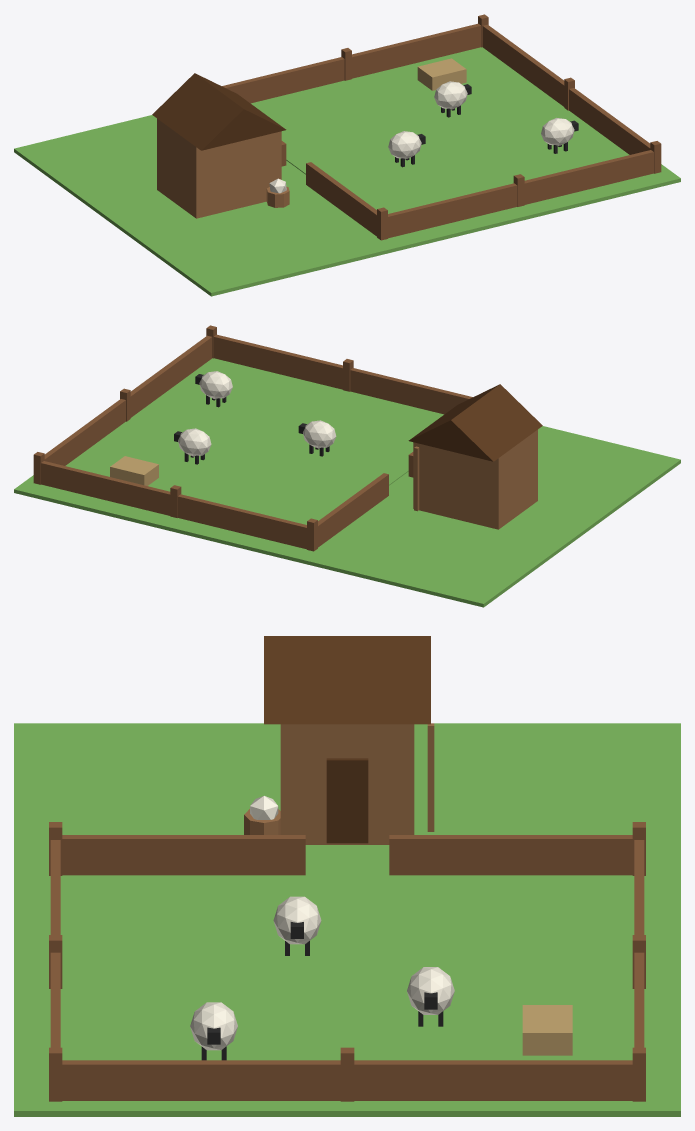
The model's file is sheep_farm.glb.
3 renders of one model, top to bottom at view 1: azimuth 30°, elevation 25°; view 2: azimuth 150°, elevation 25°; view 3: azimuth 270°, elevation 25°, orthographic. The views are drawn at different scales.
Visible parts, largest first — view 1: Ground, Paddock, Hut, Fence_F, Fence_B, HutRoof, Fence_R, Fence_L1, HayPile, Sheep1_Body, Sheep2_Body, Sheep0_Body; view 2: Ground, Paddock, Hut, Fence_B, Fence_F, HutRoof, Fence_R, Fence_L2, HayPile, Sheep0_Body, Sheep2_Body, Sheep1_Body; view 3: Paddock, Ground, Fence_R, HutRoof, Hut, Fence_L1, Fence_L2, HutDoor, HayPile, Fence_F, Fence_B, Sheep2_Body (+6 smaller).
Boxes of the visible parts, left/top/right/bottom form: Ground: left=14, top=47, right=680, bottom=296; Paddock: left=251, top=48, right=623, bottom=213; Hut: left=157, top=118, right=281, bottom=218; Fence_F: left=388, top=150, right=653, bottom=238; Fence_B: left=222, top=23, right=481, bottom=103; HutRoof: left=152, top=73, right=286, bottom=150; Fence_R: left=482, top=24, right=650, bottom=154; Fence_L1: left=306, top=162, right=376, bottom=236; HayPile: left=417, top=58, right=466, bottom=90; Sheep1_Body: left=434, top=81, right=467, bottom=109; Sheep2_Body: left=541, top=118, right=574, bottom=145; Sheep0_Body: left=388, top=131, right=421, bottom=159; Ground: left=14, top=358, right=680, bottom=607; Paddock: left=71, top=359, right=443, bottom=524; Hut: left=413, top=429, right=537, bottom=529; Fence_B: left=41, top=461, right=306, bottom=549; Fence_F: left=213, top=334, right=472, bottom=414; HutRoof: left=408, top=384, right=542, bottom=461; Fence_R: left=44, top=335, right=212, bottom=465; Fence_L2: left=318, top=473, right=388, bottom=547; HayPile: left=110, top=456, right=158, bottom=485; Sheep0_Body: left=303, top=420, right=336, bottom=448; Sheep2_Body: left=199, top=371, right=232, bottom=399; Sheep1_Body: left=178, top=428, right=211, bottom=456; Paddock: left=60, top=880, right=634, bottom=1060; Ground: left=14, top=723, right=680, bottom=1116; Fence_R: left=62, top=1060, right=632, bottom=1100; HutRoof: left=264, top=636, right=430, bottom=724; Hut: left=280, top=724, right=414, bottom=844; Fence_L1: left=62, top=835, right=305, bottom=875; Fence_L2: left=389, top=835, right=632, bottom=875; HutDoor: left=326, top=758, right=368, bottom=843; HayPile: left=522, top=1005, right=572, bottom=1055; Fence_F: left=50, top=840, right=60, bottom=1047; Fence_B: left=634, top=840, right=644, bottom=1047; Sheep2_Body: left=190, top=1002, right=237, bottom=1050.
Size of the model in its own units: 5.5 by 1.2 by 4.
